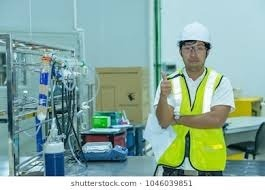helmet: (174, 22, 215, 43)
person with full safety: (155, 20, 227, 172)
safety vest: (160, 68, 224, 169)
